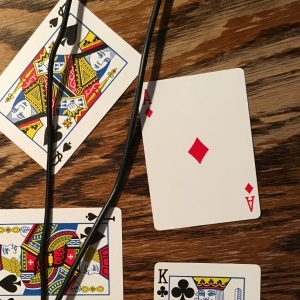card: (138, 69, 261, 231)
